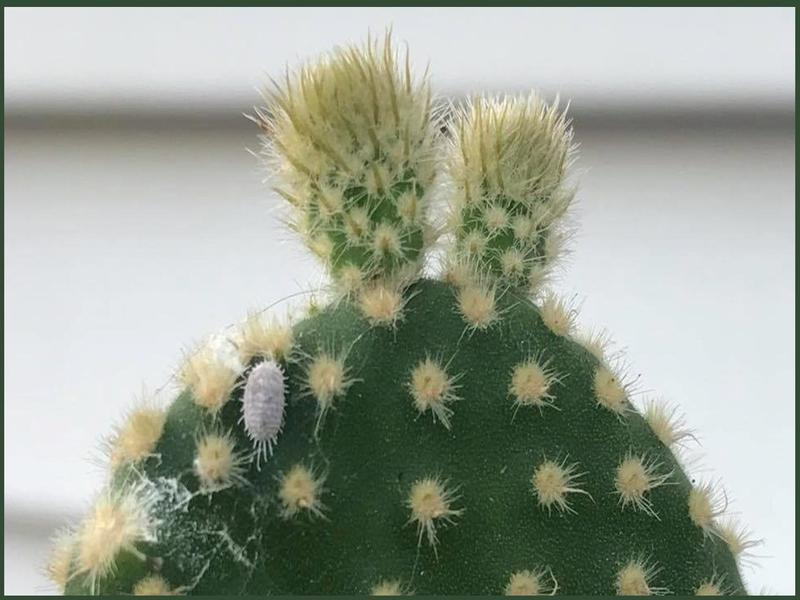Mealy_bug: (217, 329, 321, 478)
